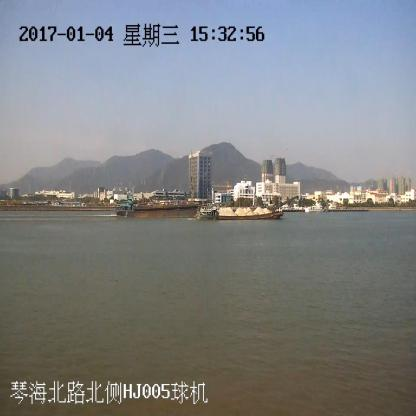Bulk Carrier: (117, 200, 197, 218)
